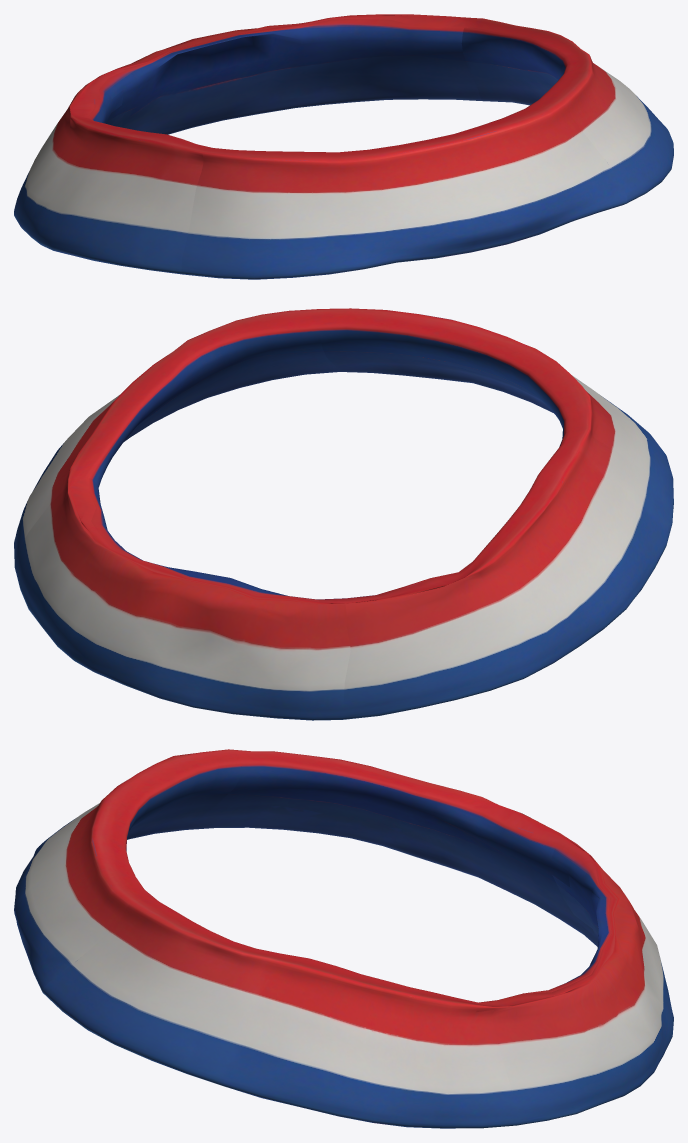
The model's file is Sportband-OG.glb.
The picture shows the model from 3 angles, top to bottom: view 1: azimuth 30°, elevation 25°; view 2: azimuth 150°, elevation 25°; view 3: azimuth 270°, elevation 25°; orthographic projection. The views are drawn at different scales.
Parts seen in each view (by area): view 1: Sportband-OG; view 2: Sportband-OG; view 3: Sportband-OG.
Part boxes in pixels (box(x1,y1,x2,y2)): Sportband-OG: box(14, 14, 673, 279); Sportband-OG: box(14, 308, 673, 720); Sportband-OG: box(14, 749, 673, 1128).
Bounding box in the file's own units: 0.431 × 0.1295 × 0.4081.
Materials: 1 (1 with a texture image).
